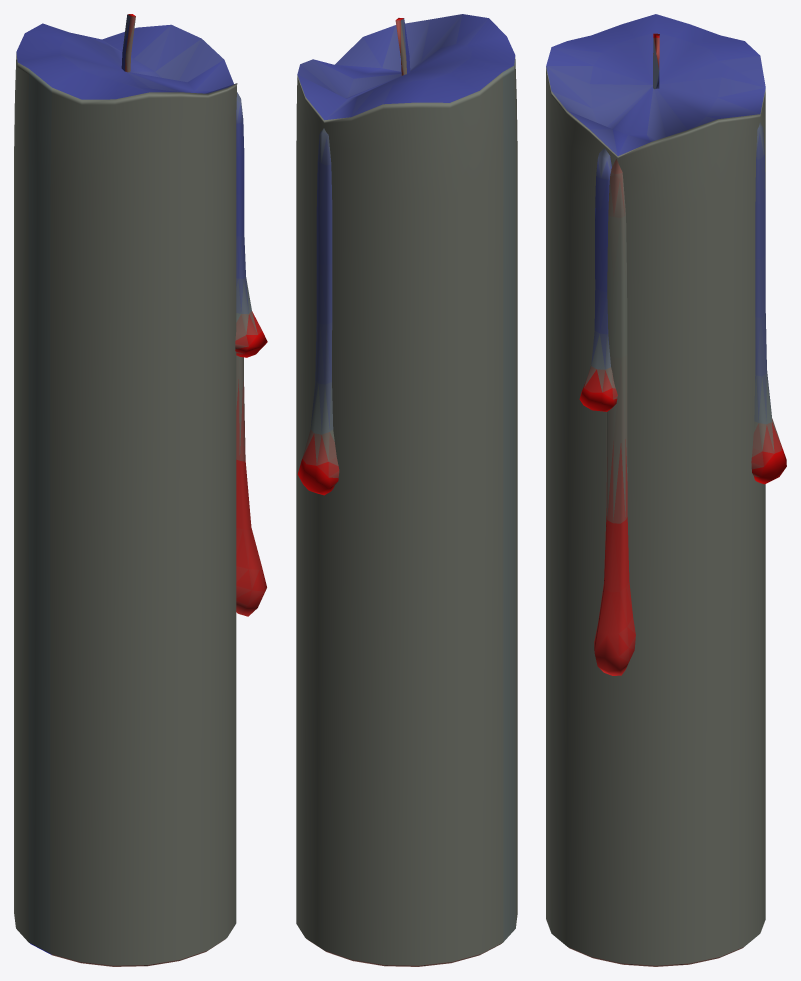
Rendered from Candle.fbx.
3 renders of one model, left to right at view 1: azimuth 30°, elevation 25°; view 2: azimuth 150°, elevation 25°; view 3: azimuth 270°, elevation 25°, orthographic.
Visible parts, largest first — view 1: Candle; view 2: Candle; view 3: Candle.
Part boxes in pixels (x1,y1,x2,y2): Candle: [14, 14, 267, 966]; Candle: [296, 14, 517, 966]; Candle: [546, 14, 786, 966].
Size of the model in its own units: 4.48 by 4.45 by 18.17.
